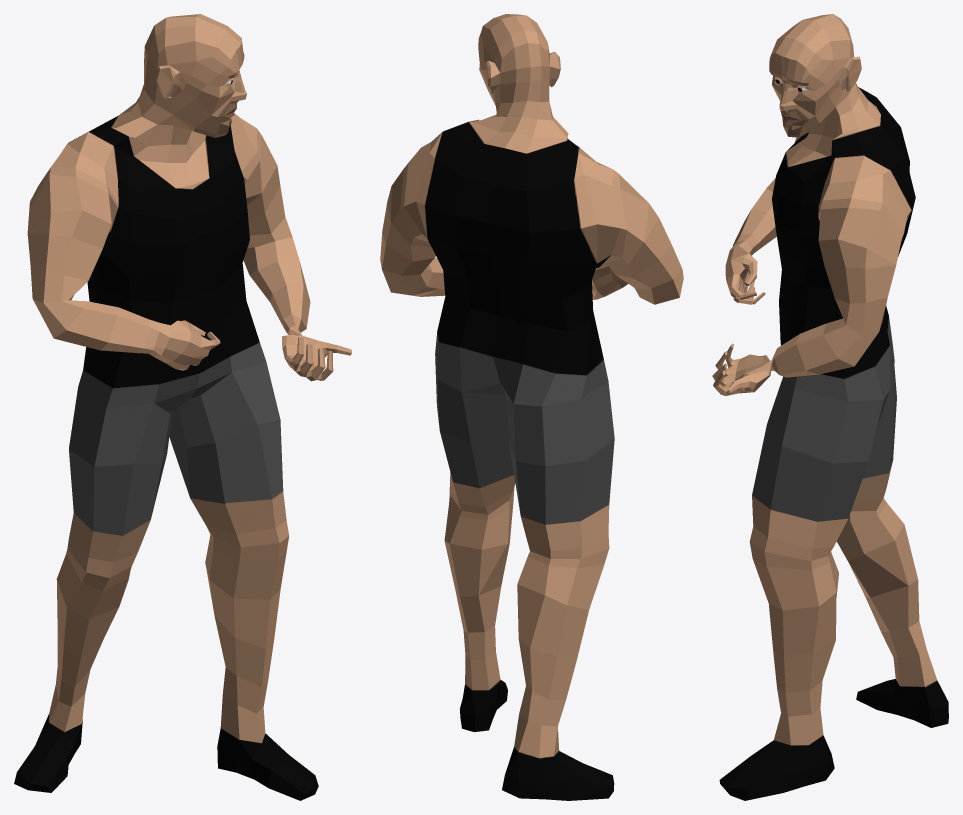
Rendered from PlayerIdle(128).obj.
3 views of the same model, side by side, from view 1: azimuth 30°, elevation 25°; view 2: azimuth 150°, elevation 25°; view 3: azimuth 270°, elevation 25° (orthographic). The views are drawn at different scales.
Parts seen in each view (by area): view 1: Plane002; view 2: Plane002; view 3: Plane002.
Boxes of the visible parts, left/top/right/bottom form: Plane002: left=14, top=14, right=351, bottom=800; Plane002: left=380, top=14, right=683, bottom=800; Plane002: left=712, top=14, right=948, bottom=800.
Size of the model in its own units: 698 by 1797 by 521.
